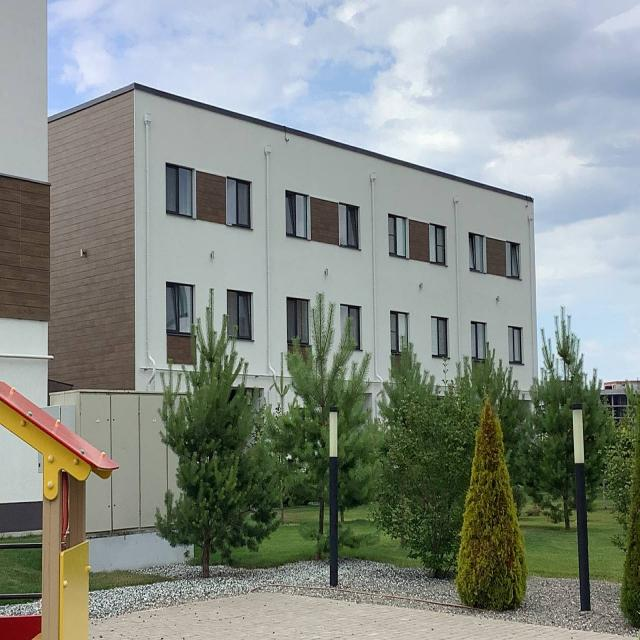Building: (48, 84, 536, 392)
